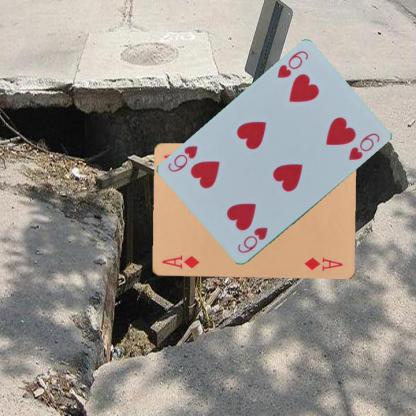6h: (274, 48, 310, 80), (235, 225, 269, 255)
Ad: (159, 252, 200, 271)
